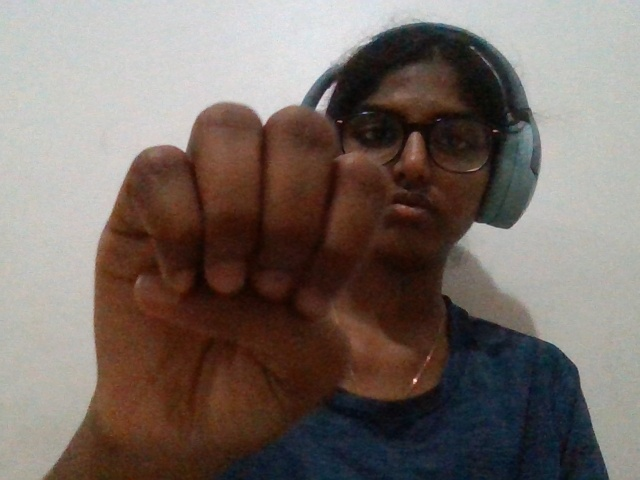E: (46, 77, 418, 476)
